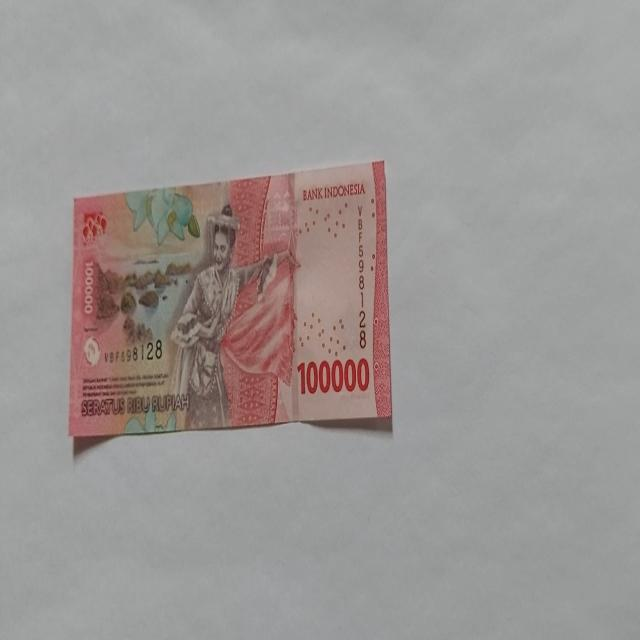seratus ribu rupiah: (68, 158, 392, 439), (168, 206, 278, 430)
